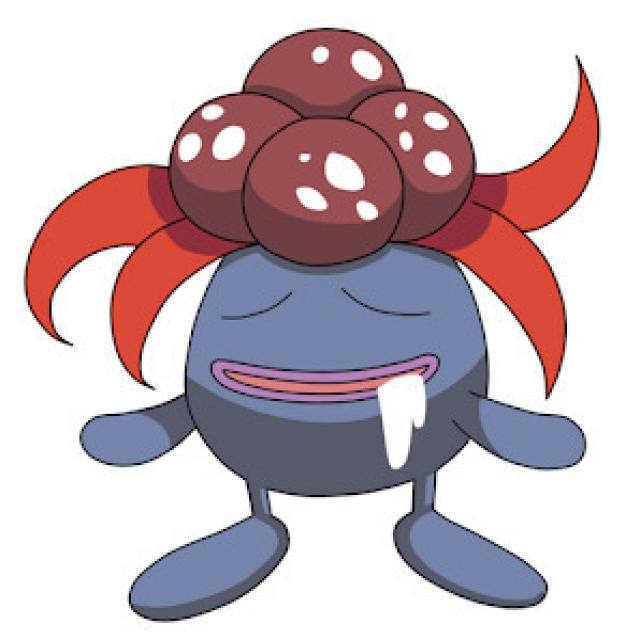Gloom: (32, 20, 606, 629)
